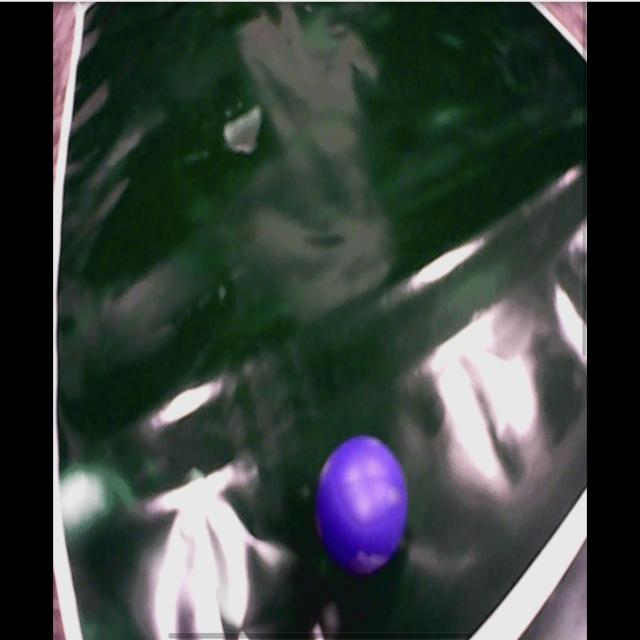ball: (316, 438, 409, 568)
